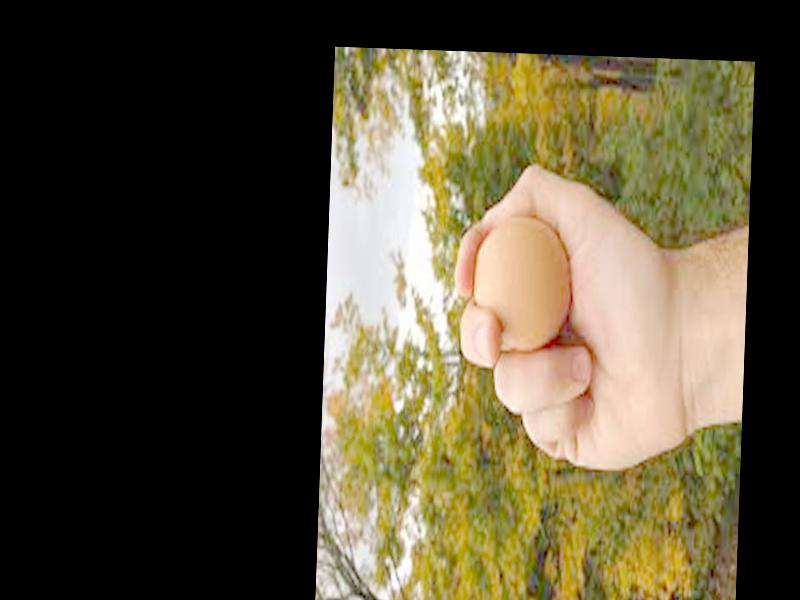Eggs: (472, 216, 572, 358)
